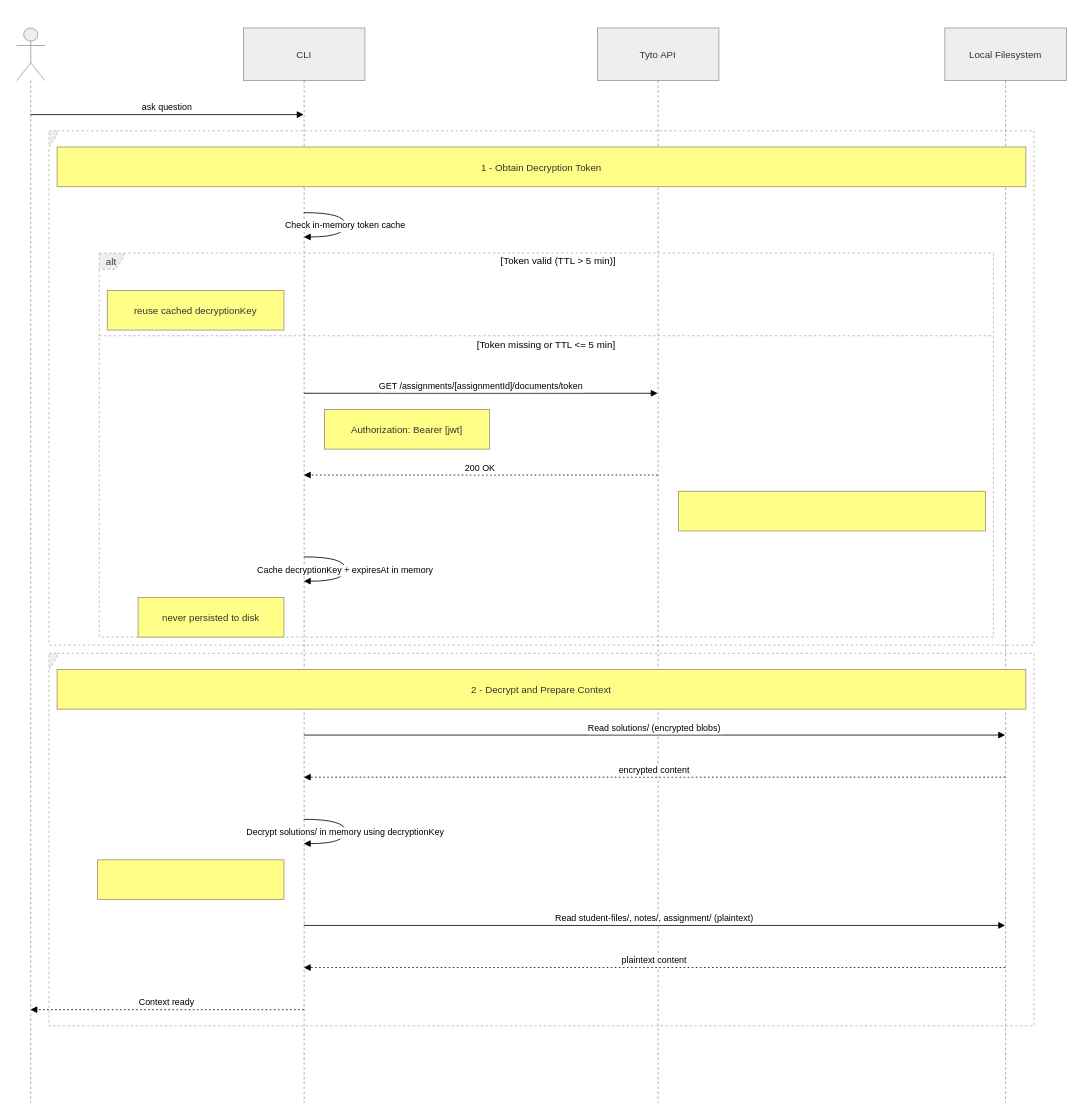
Some shapes in this 1081 by 1117 pixel diagram are drawn without their labels. Each missing label, with the box of its shape:
decryptionKey, expiresAt, algorithm: AES-256-GCM: (678, 490, 985, 531)
plaintext never written to disk: (97, 859, 284, 900)
Student: (16, 27, 45, 1103)
